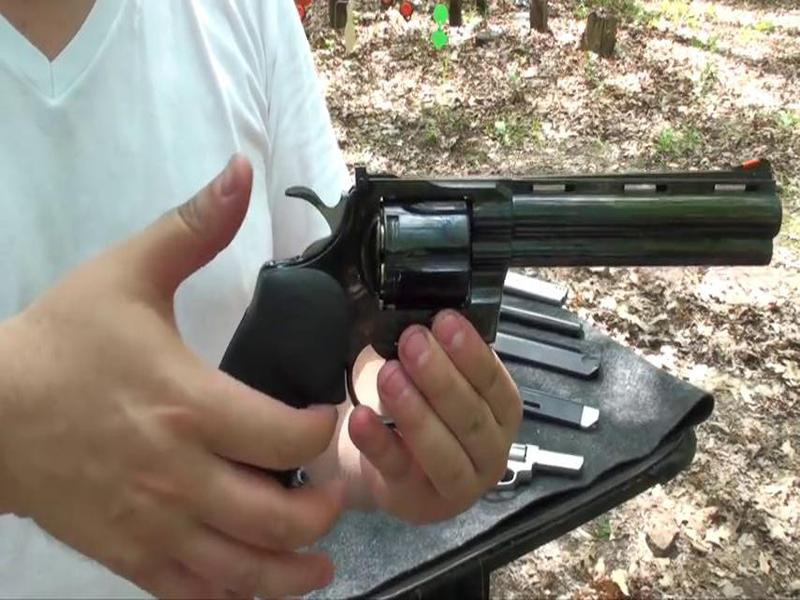Revolver: (152, 156, 788, 508)
